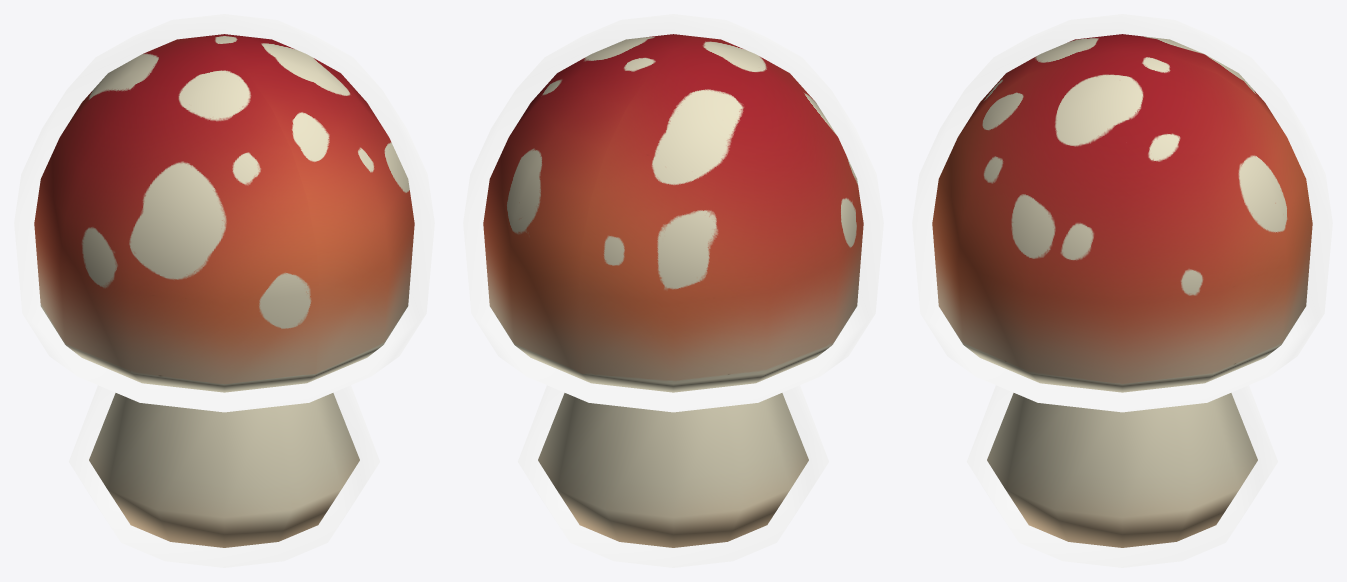
Rendered from mushroom.glb.
3 renders of one model, left to right at view 1: azimuth 30°, elevation 25°; view 2: azimuth 150°, elevation 25°; view 3: azimuth 270°, elevation 25°, orthographic.
Parts seen in each view (by area): view 1: pSphere1, pSphere1.001; view 2: pSphere1, pSphere1.001; view 3: pSphere1, pSphere1.001.
Boxes of the visible parts, left/top/right/bottom form: pSphere1: left=34, top=34, right=414, bottom=547; pSphere1.001: left=14, top=14, right=434, bottom=567; pSphere1: left=483, top=34, right=863, bottom=547; pSphere1.001: left=463, top=14, right=883, bottom=567; pSphere1: left=932, top=34, right=1312, bottom=547; pSphere1.001: left=912, top=14, right=1332, bottom=567.
Bounding box in the file's own units: 0.4424 × 0.5658 × 0.4424.
2 materials, 1 textured.
